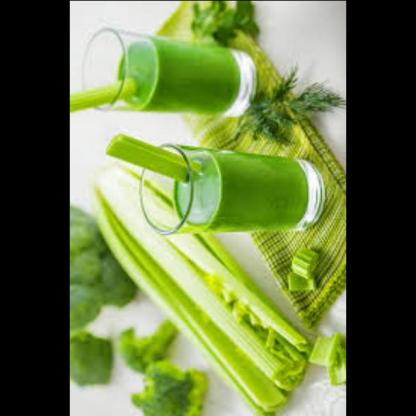broccoli: (69, 199, 135, 342), (116, 358, 205, 416), (114, 313, 182, 375)
celery: (80, 154, 324, 414), (295, 330, 345, 397), (276, 248, 320, 310)
